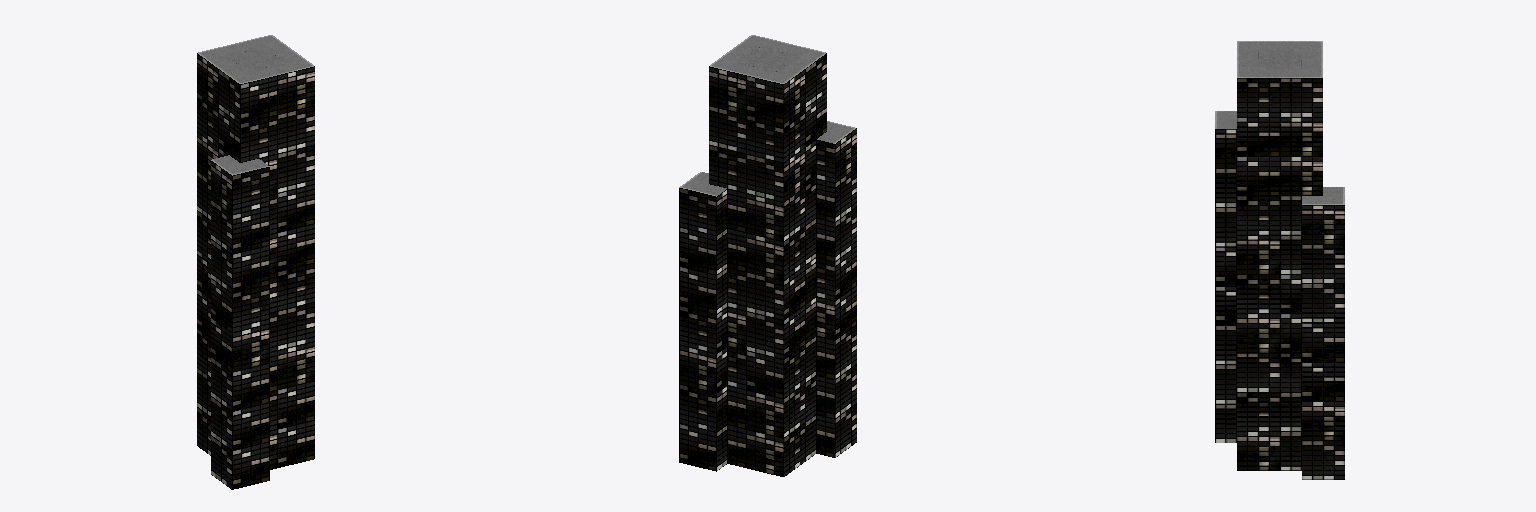
3 renders of one model, left to right at view 1: azimuth 30°, elevation 25°; view 2: azimuth 150°, elevation 25°; view 3: azimuth 270°, elevation 25°, orthographic.
Visible parts, largest first — view 1: Building_square3tier; view 2: Building_square3tier; view 3: Building_square3tier.
Boxes of the visible parts, x1=… form: Building_square3tier: x1=197, y1=35, x2=314, y2=489; Building_square3tier: x1=679, y1=35, x2=856, y2=476; Building_square3tier: x1=1215, y1=41, x2=1344, y2=479.
Size of the model in its own units: 39.06 by 130 by 39.06.
1 materials, 1 textured.